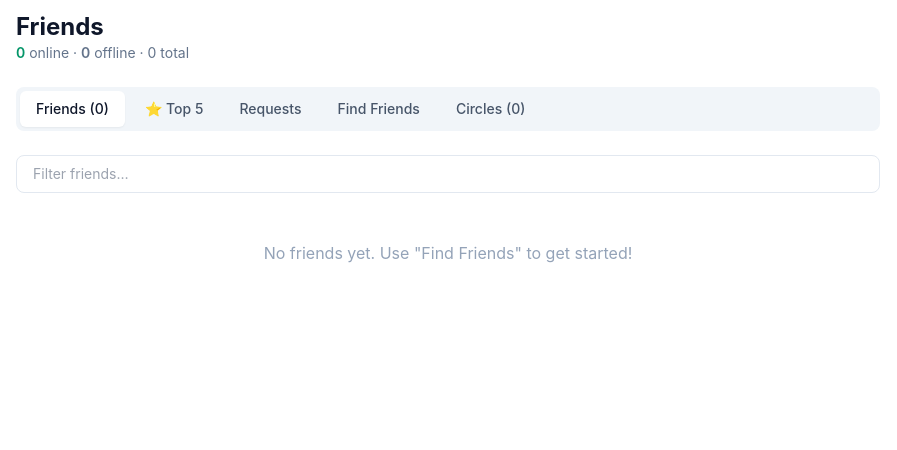
Test: Friends page request flow › shows empty state with link to friends tab when no top friends exist
This screenshot has width=897, height=450.
Click the button "⭐ Top 5" at (174, 109), box [129, 91, 219, 127]
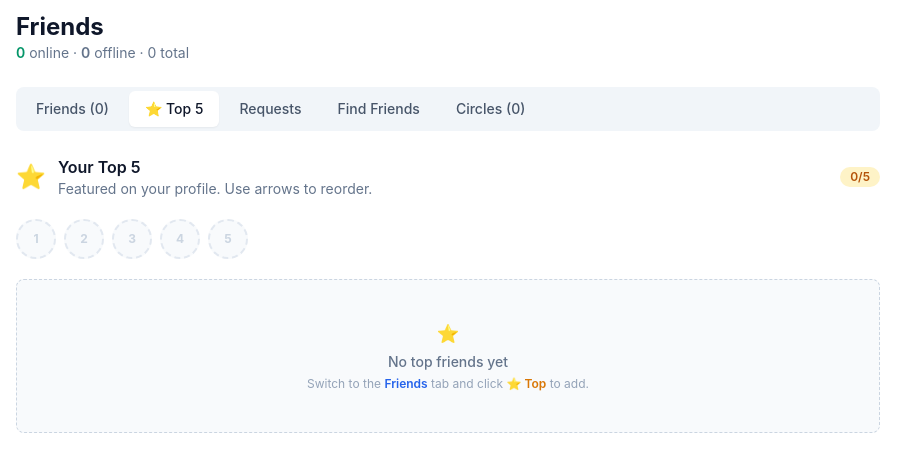
Check: the text "No top friends yet" is shown, box [388, 353, 508, 370]
Check: the text "0/5" is shown, box [840, 167, 880, 187]
